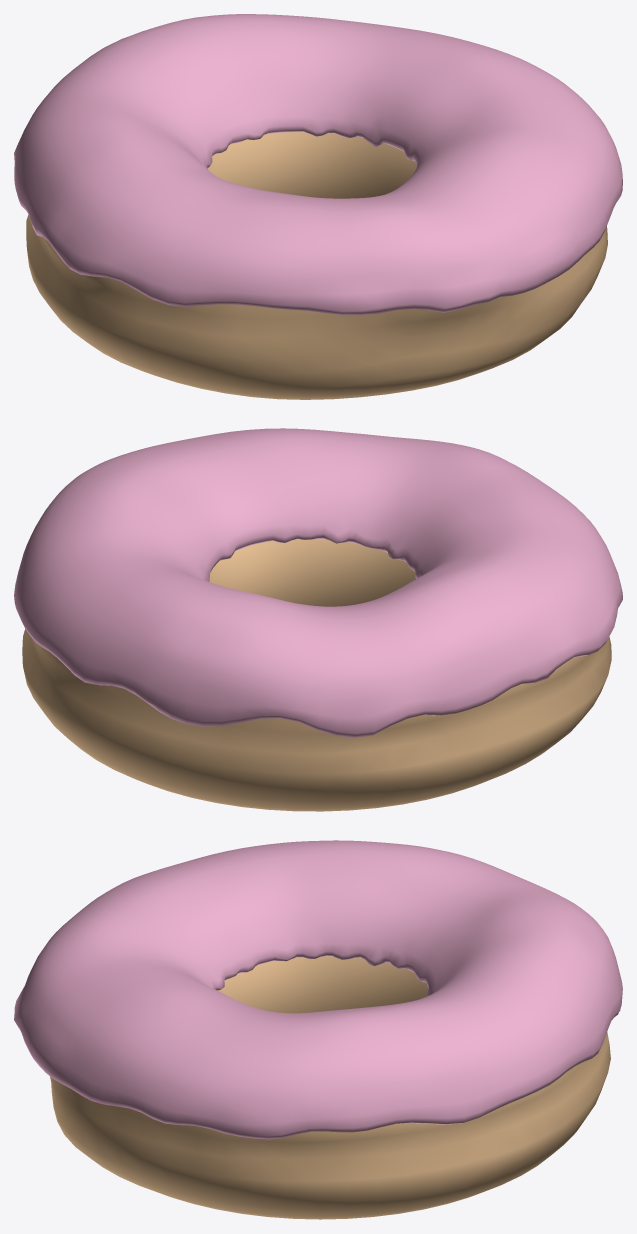
File: fini.gltf
3 views of the same model, one above another, from view 1: azimuth 30°, elevation 25°; view 2: azimuth 150°, elevation 25°; view 3: azimuth 270°, elevation 25° (orthographic). The views are drawn at different scales.
Parts seen in each view (by area): view 1: icing, donut; view 2: icing, donut; view 3: icing, donut.
Part boxes in pixels (x1=…): icing: x1=14, y1=14, x2=622, y2=315; donut: x1=26, y1=132, x2=607, y2=399; icing: x1=14, y1=428, x2=622, y2=737; donut: x1=22, y1=539, x2=611, y2=811; icing: x1=14, y1=840, x2=622, y2=1139; donut: x1=50, y1=956, x2=610, y2=1219.
Bounding box in the file's own units: 0.1524 × 0.0554 × 0.1533.
